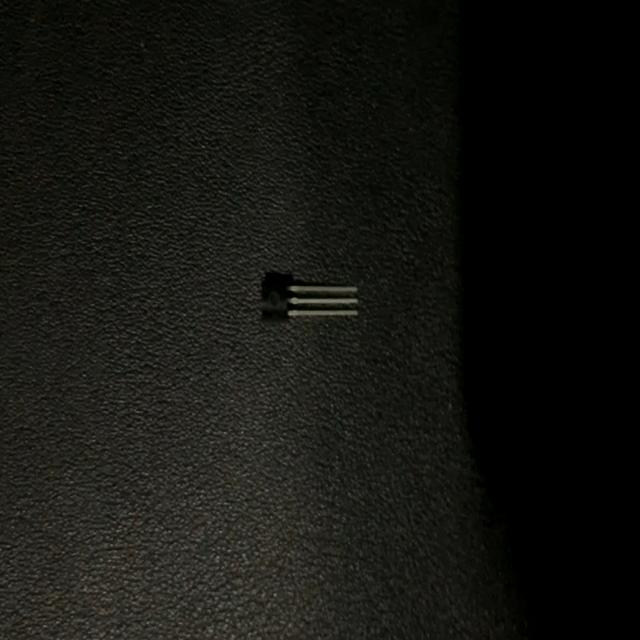BJT: (259, 269, 362, 326)
